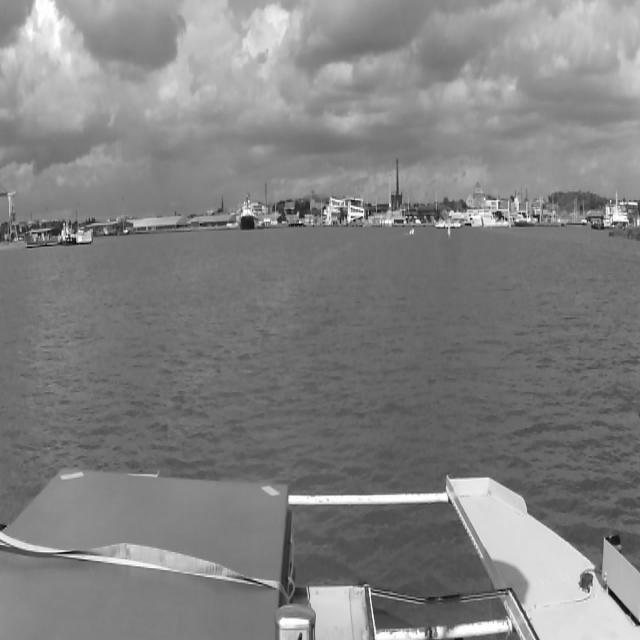buoy: (448, 220, 450, 234)
ship: (216, 194, 292, 234), (603, 191, 629, 230), (240, 196, 254, 230), (58, 222, 76, 245), (472, 217, 508, 227), (513, 214, 535, 228), (76, 227, 92, 244), (435, 220, 461, 228), (406, 225, 418, 239)
